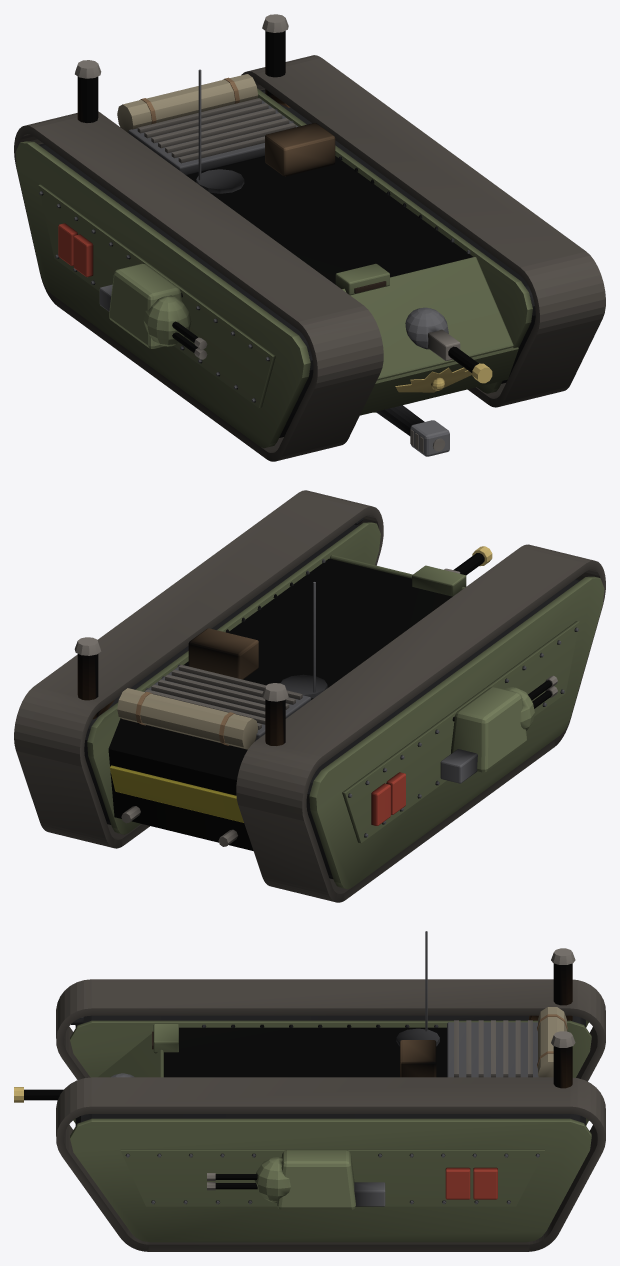
The model's file is vehicles.glb.
The picture shows the model from 3 angles, top to bottom: view 1: azimuth 30°, elevation 25°; view 2: azimuth 150°, elevation 25°; view 3: azimuth 270°, elevation 25°; orthographic projection. The views are drawn at different scales.
Parts seen in each view (by area): view 1: lr_hull, lr_track, lr_barrel; view 2: lr_hull, lr_track; view 3: lr_hull, lr_track.
Boxes of the visible parts, left/top/right/bottom form: lr_hull: left=15, top=14, right=535, bottom=448; lr_track: left=14, top=55, right=605, bottom=461; lr_barrel: left=373, top=405, right=449, bottom=456; lr_hull: left=74, top=517, right=604, bottom=889; lr_track: left=14, top=490, right=605, bottom=902; lr_hull: left=14, top=948, right=591, bottom=1242; lr_track: left=56, top=979, right=605, bottom=1251.
Bounding box in the file's own units: 5.53 × 3.72 × 8.16.
